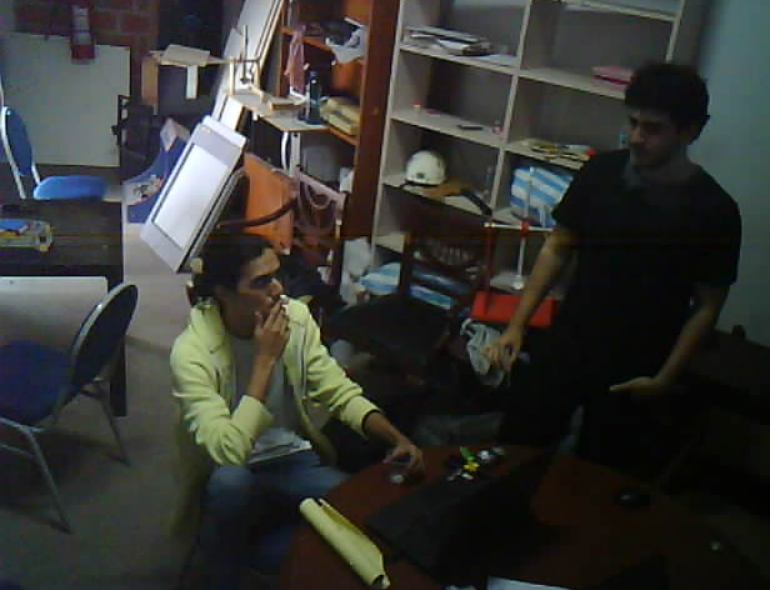person: (450, 36, 757, 481), (153, 225, 440, 590)
